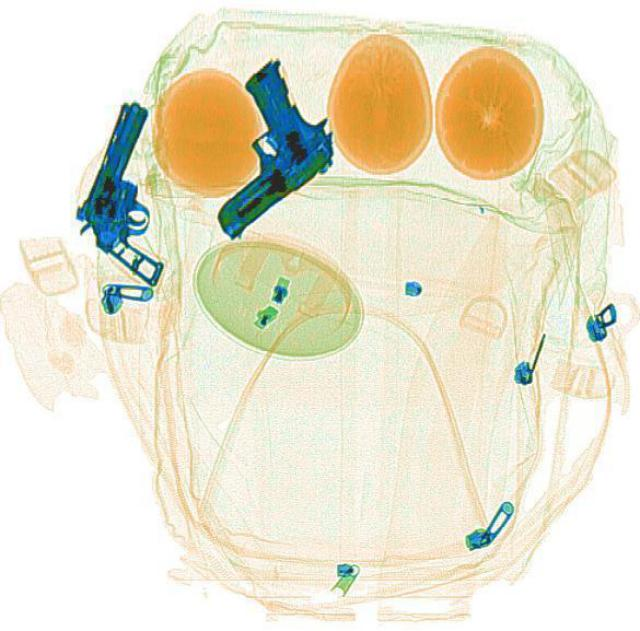Gun: (146, 53, 357, 240), (54, 97, 220, 287)
